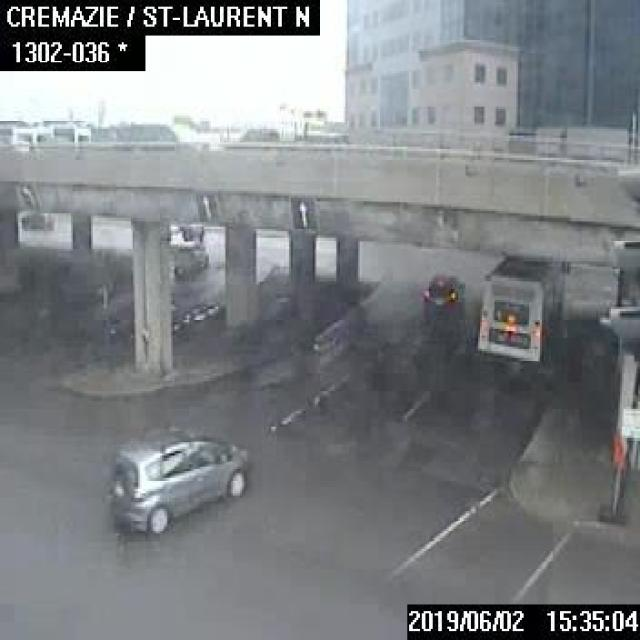bus: (473, 249, 558, 373)
construction: (604, 432, 623, 526)
vehicle: (104, 431, 247, 533), (172, 221, 208, 275), (418, 274, 466, 314), (102, 122, 173, 148), (222, 128, 294, 147), (295, 131, 348, 149), (19, 209, 52, 228)
